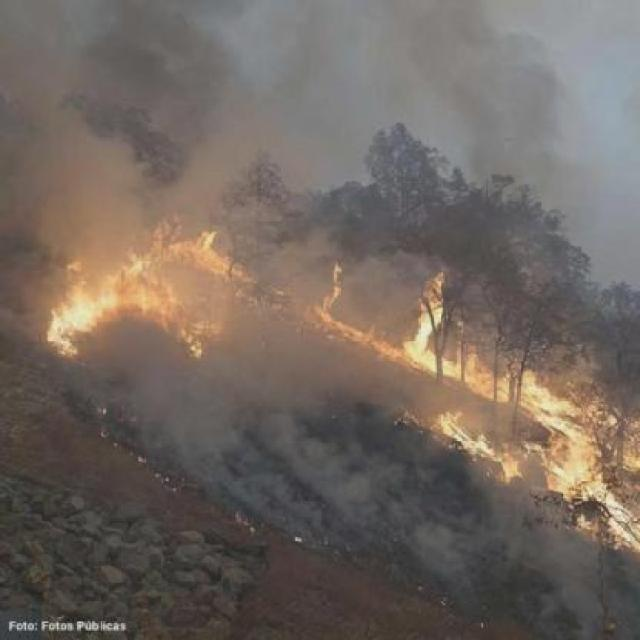Fire: (36, 219, 232, 367), (536, 384, 638, 562), (456, 358, 546, 416), (356, 325, 414, 363), (434, 413, 484, 452), (419, 272, 436, 372), (492, 419, 516, 484), (314, 298, 349, 337)
